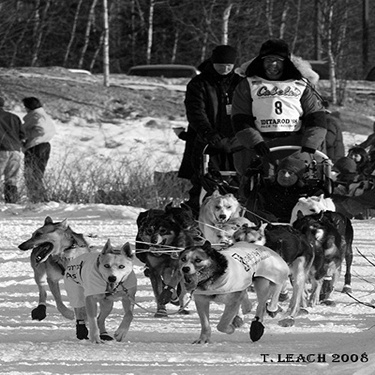dog: (170, 240, 291, 346), (232, 218, 315, 330), (17, 209, 93, 328), (62, 237, 140, 350), (132, 207, 191, 319), (288, 213, 354, 298), (192, 183, 241, 237), (284, 189, 340, 227), (163, 186, 193, 231), (228, 217, 266, 248)
